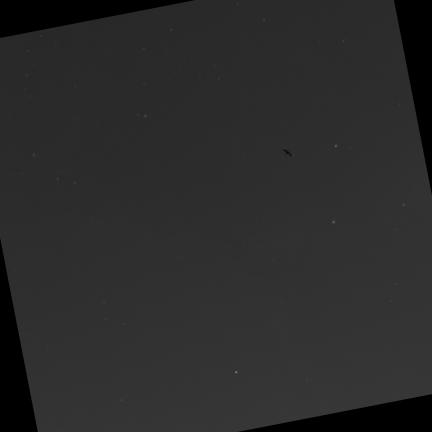Shahed: (285, 148, 293, 156)
